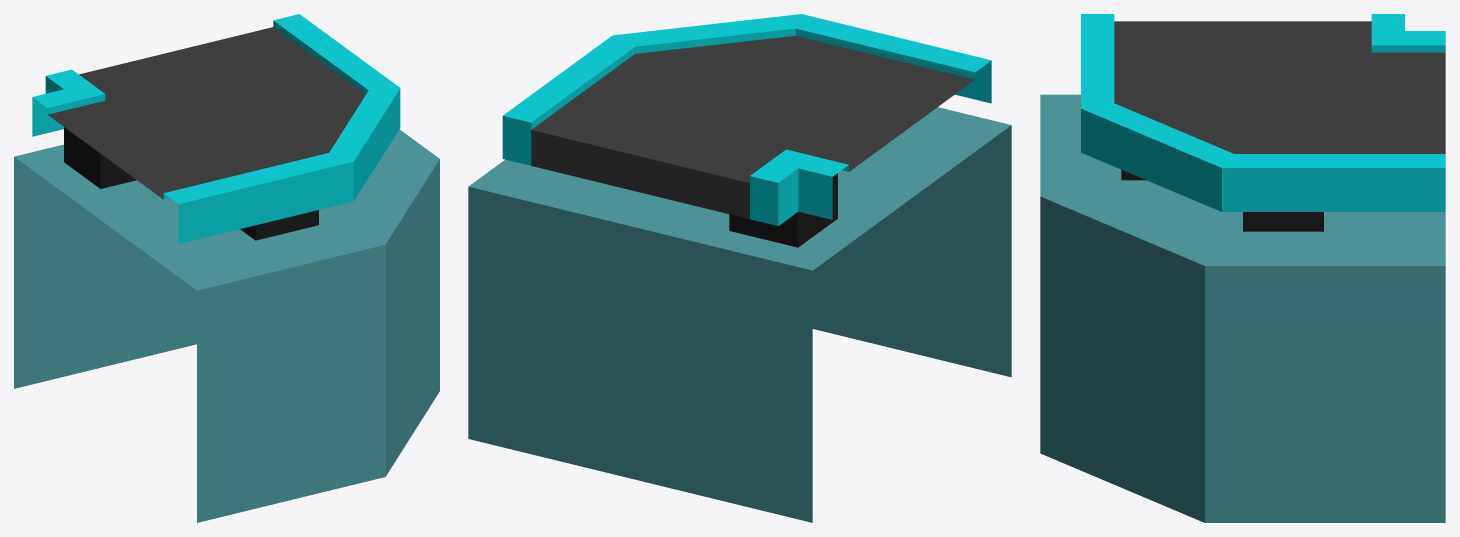
The model's file is conveyor_corner_3.fbx.
3 views of the same model, side by side, from view 1: azimuth 30°, elevation 25°; view 2: azimuth 150°, elevation 25°; view 3: azimuth 270°, elevation 25° (orthographic). The views are drawn at different scales.
Parts seen in each view (by area): view 1: conveyor_corner_1.002; view 2: conveyor_corner_1.002; view 3: conveyor_corner_1.002.
Boxes of the visible parts, x1,y1,x2,y2 form: conveyor_corner_1.002: (14, 14, 439, 522); conveyor_corner_1.002: (468, 14, 1011, 522); conveyor_corner_1.002: (1040, 14, 1445, 522).
Size of the model in its own units: 100 by 92 by 100.
